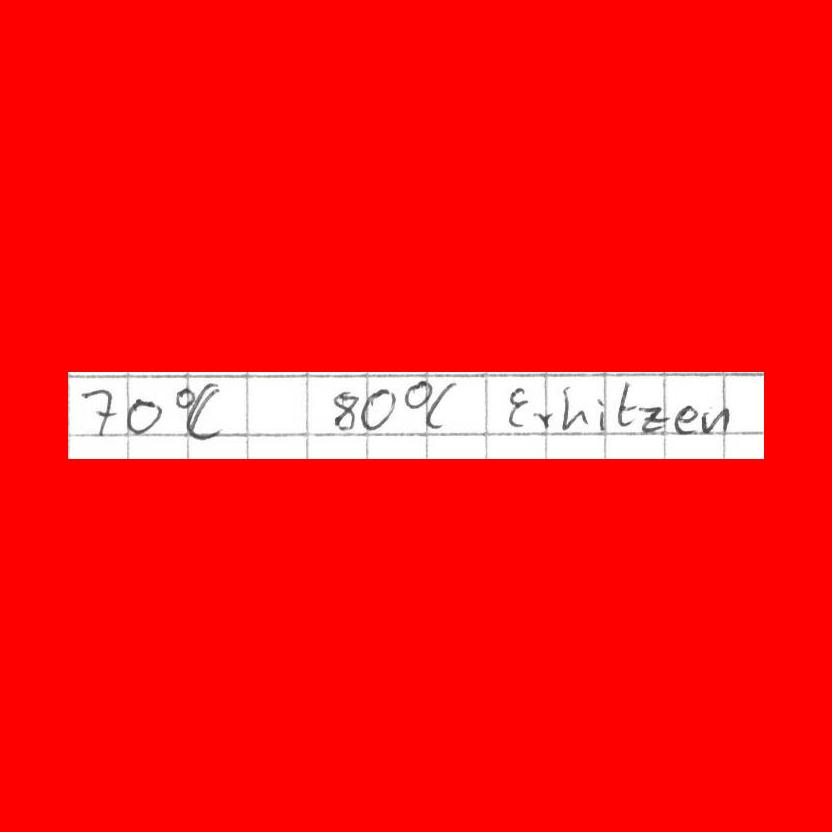Char: (77, 385, 121, 436), (190, 382, 224, 442), (124, 396, 165, 438), (360, 386, 396, 433), (425, 379, 455, 432), (559, 385, 586, 430), (330, 388, 357, 432), (403, 377, 433, 411), (505, 386, 528, 430), (615, 382, 636, 430), (701, 408, 729, 434), (673, 405, 698, 433), (640, 406, 666, 432), (172, 385, 196, 410), (594, 397, 607, 431), (535, 409, 554, 429)
